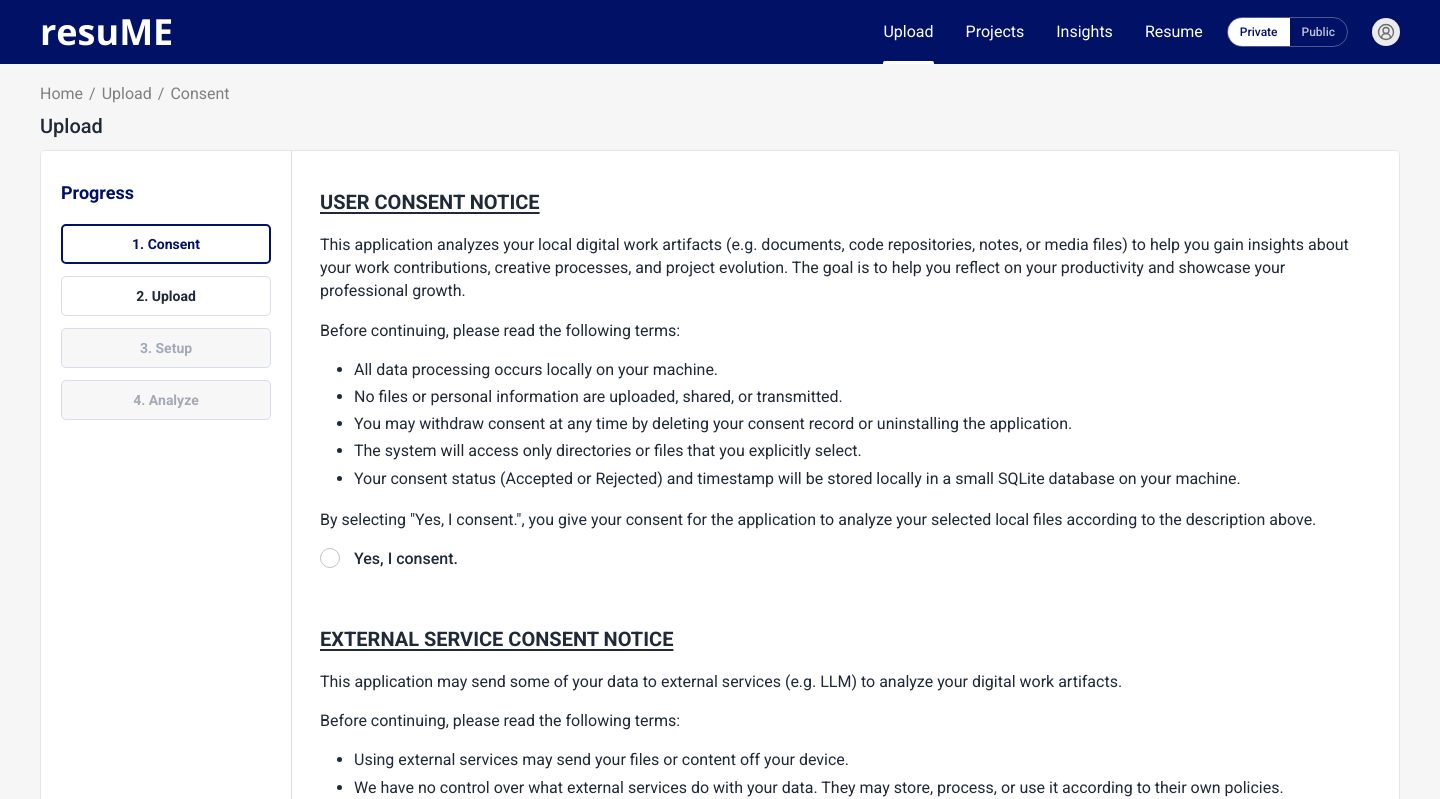
Test case: upload wizard flow › shows validation when external consent option is missing
Check: the heading "USER CONSENT NOTICE" is shown, box [320, 190, 540, 214]
Click the radio button labelled "Yes, I consent.". click: coordinates (330, 558)
box: [320, 548, 340, 568]
(page scrolled)
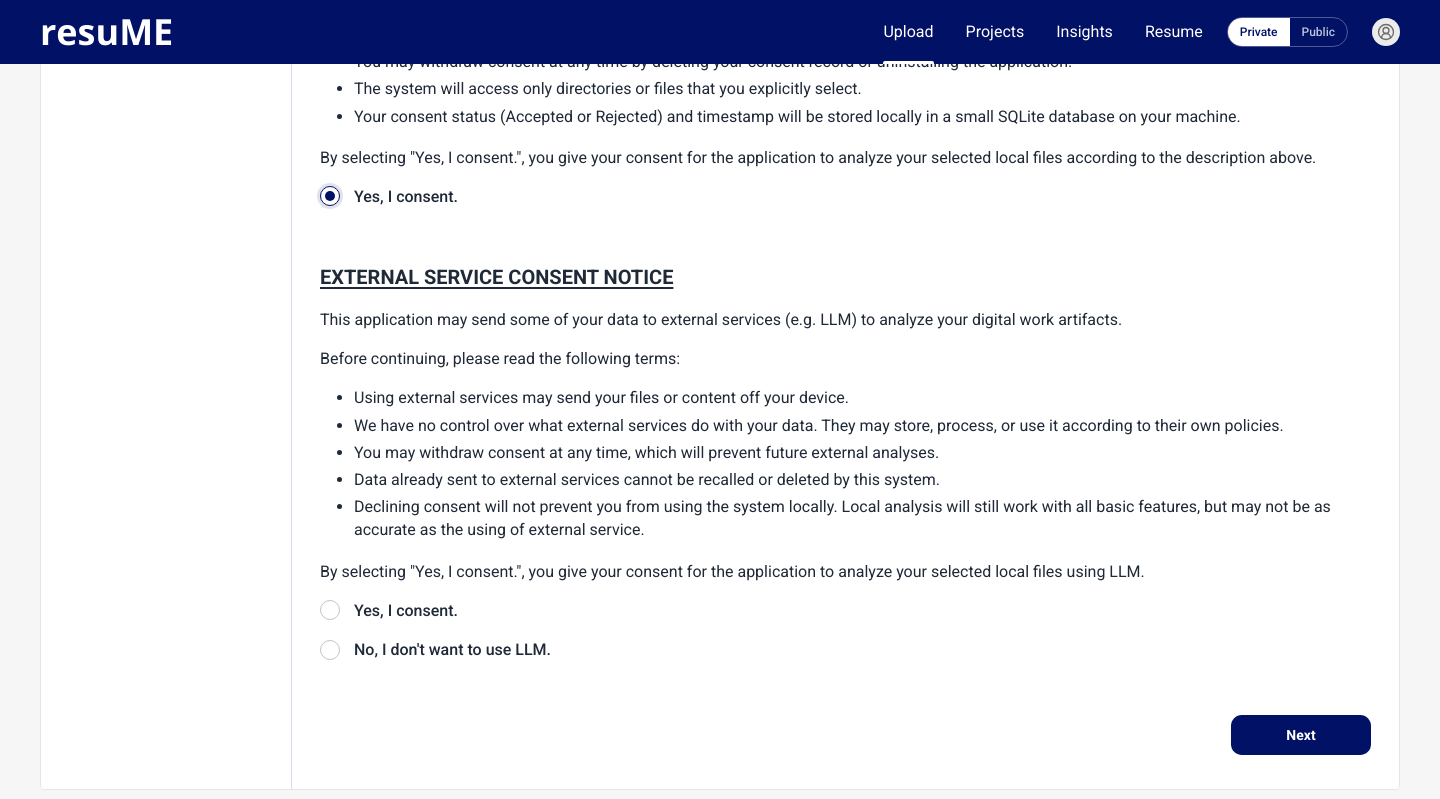
Click the button "Next". click: coordinates (1301, 735)
box: [1231, 715, 1371, 755]
(page scrolled)
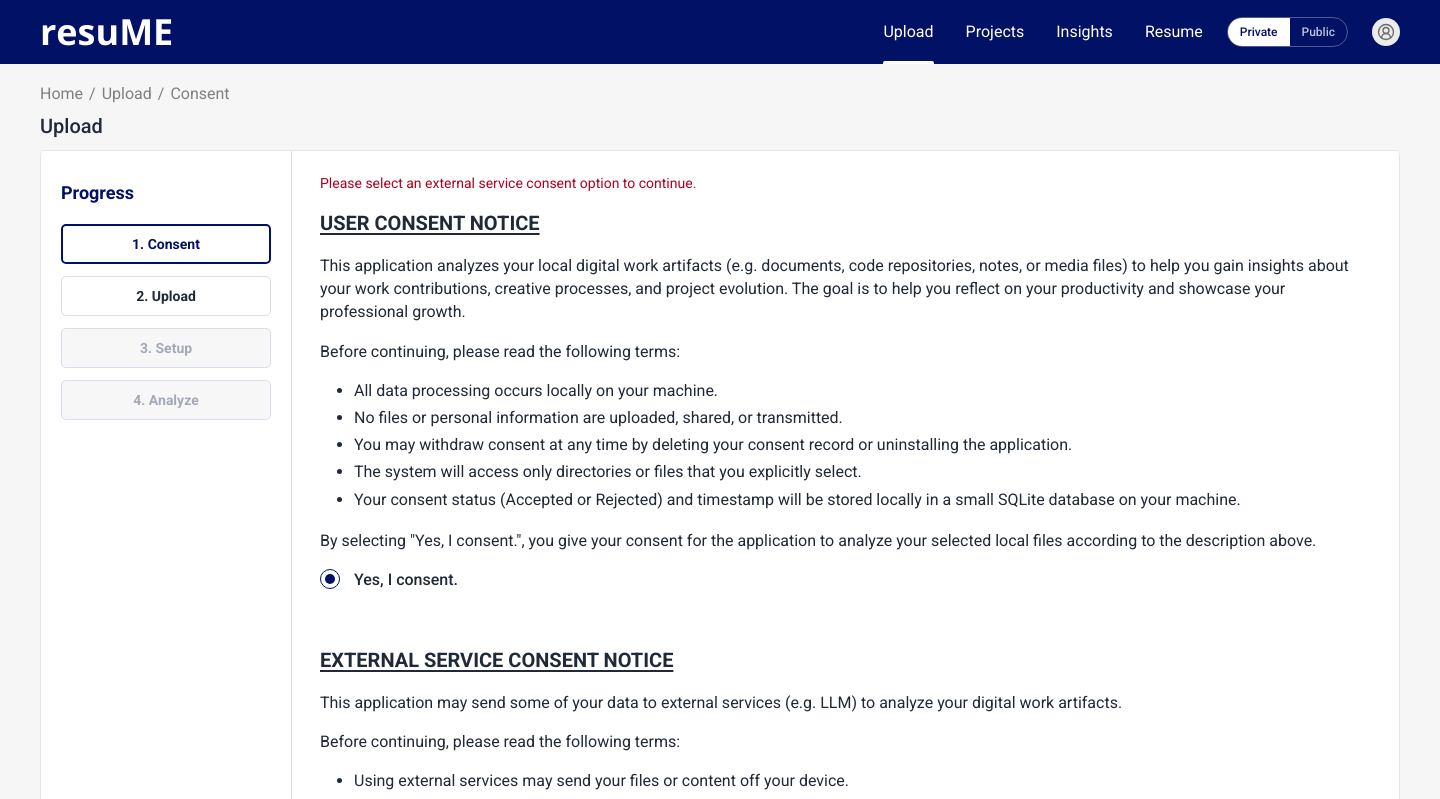
Check: the text "Please select an external service consent option to continue." is shown, box [320, 175, 696, 191]
